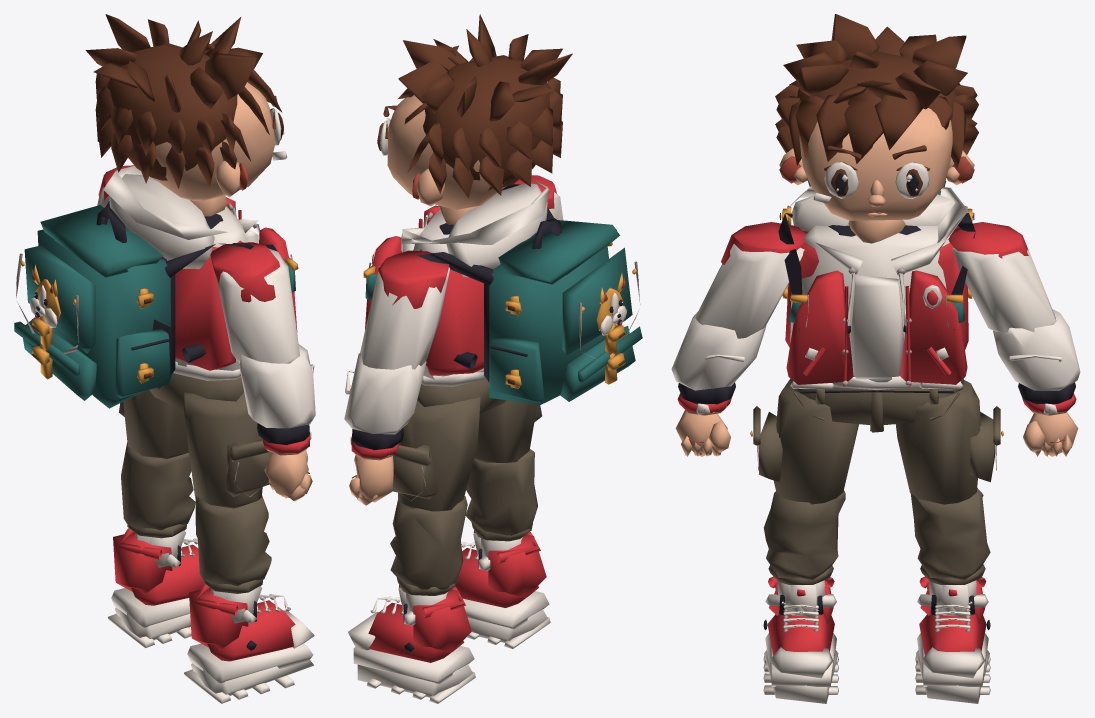
The picture shows the model from 3 angles, left to right: view 1: azimuth 30°, elevation 25°; view 2: azimuth 150°, elevation 25°; view 3: azimuth 270°, elevation 25°; orthographic projection.
Parts seen in each view (by area): view 1: head, backpackSocket_geometry, torso, footR, armR, footL, legR, shinR, shinL, foreArmR, legL, handR (+1 smaller); view 2: head, backpackSocket_geometry, torso, footL, armL, legL, footR, shinL, shinR, foreArmL, legR, handL (+2 smaller); view 3: torso, head, legL, legR, armL, footL, footR, armR, shinR, shinL, foreArmL, foreArmR (+3 smaller).
Boxes of the visible parts, x1,y1,x2,y2 form: head: (85, 14, 287, 201); backpackSocket_geometry: (14, 205, 175, 408); torso: (103, 166, 298, 380); footR: (184, 584, 314, 703); armR: (210, 242, 299, 363); footL: (108, 528, 204, 648); legR: (183, 392, 272, 508); shinR: (195, 495, 271, 623); shinL: (121, 442, 195, 567); foreArmR: (238, 344, 315, 445); legL: (119, 390, 188, 458); handR: (262, 431, 312, 501); head: (377, 14, 572, 209); backpackSocket_geometry: (484, 218, 642, 404); torso: (363, 179, 553, 386); footL: (348, 585, 475, 703); armL: (360, 250, 449, 369); legL: (392, 397, 480, 511); footR: (455, 530, 550, 648); shinL: (390, 496, 467, 622); shinR: (465, 449, 537, 567); foreArmL: (344, 352, 426, 450); legR: (474, 400, 542, 462); handL: (349, 436, 398, 505); torso: (778, 186, 975, 389); head: (775, 14, 978, 220); legL: (895, 380, 1003, 504); legR: (750, 378, 858, 504); armL: (948, 222, 1056, 333); footL: (915, 576, 990, 703); footR: (763, 576, 838, 703); armR: (695, 222, 805, 338); shinR: (763, 490, 845, 615); shinL: (910, 488, 990, 615); foreArmL: (993, 309, 1080, 404); foreArmR: (671, 312, 766, 404).
Size of the model in its own units: 0.7027 by 1.8 by 1.06.
